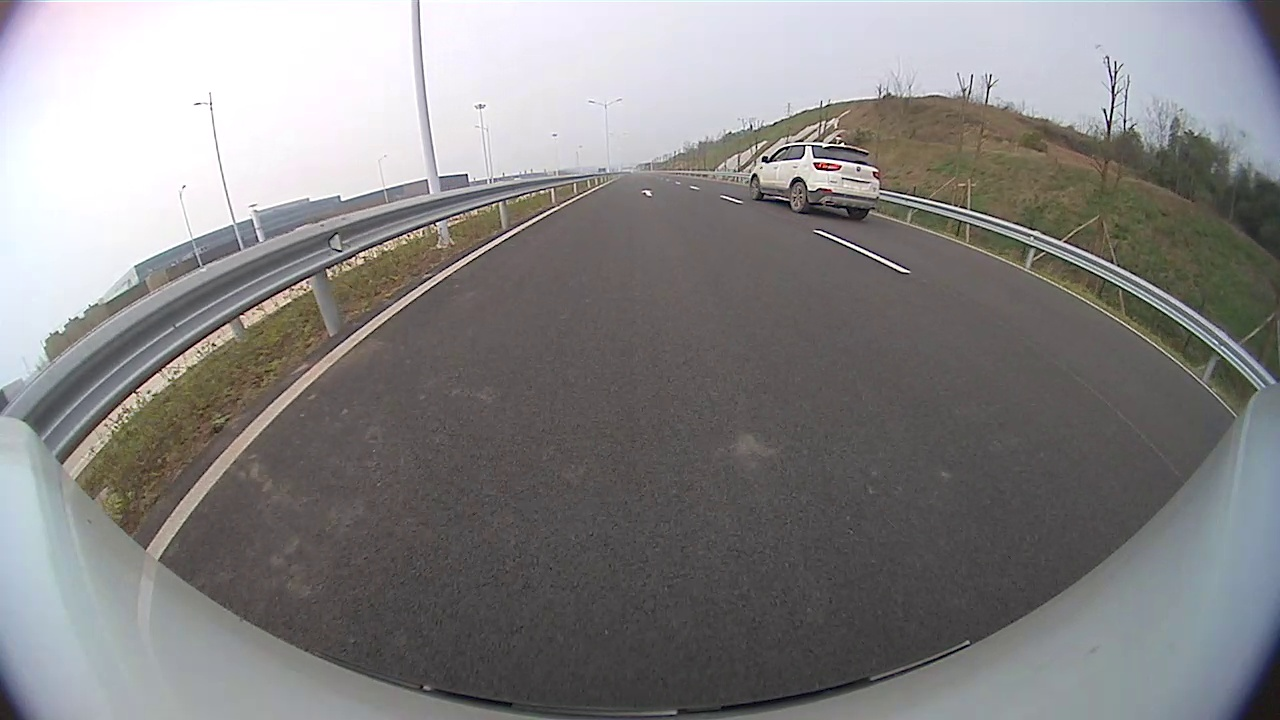car: (748, 142, 881, 220)
front: (747, 174, 763, 204)
rear: (788, 178, 814, 216)
